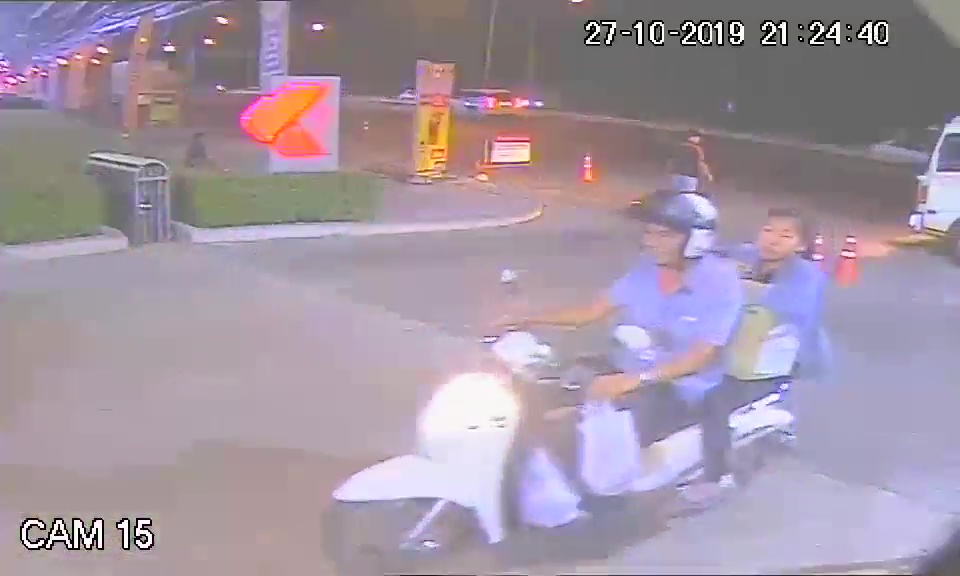motorcycle: (323, 331, 805, 560)
